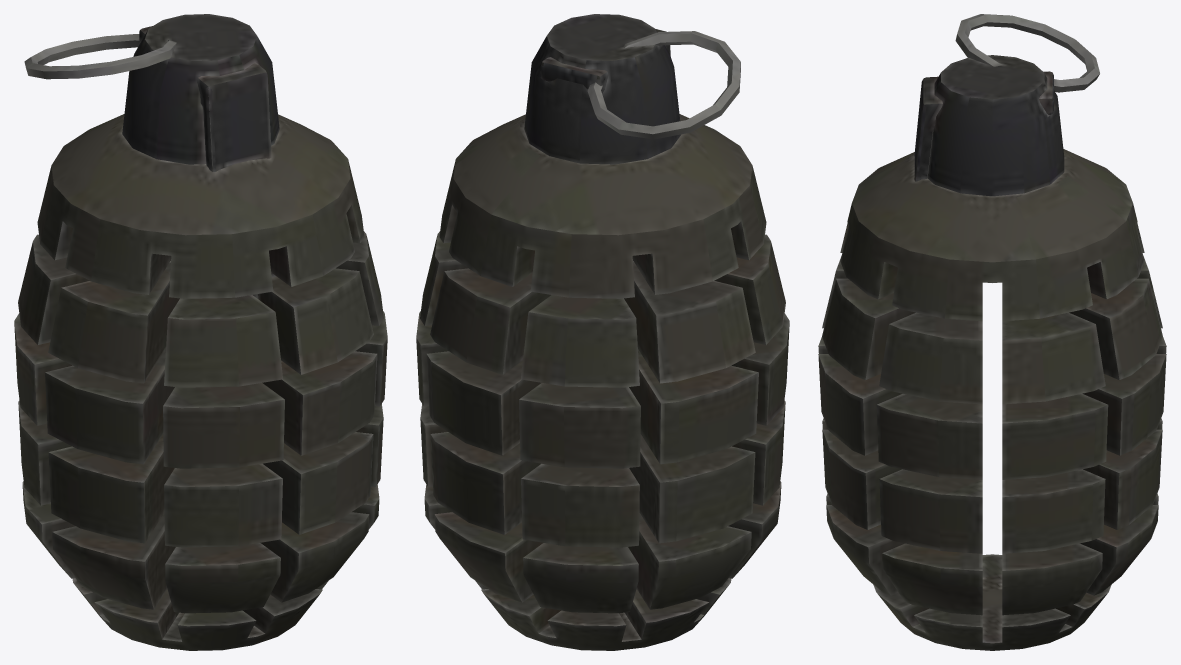
Rendered from recruit_frag.glb.
3 renders of one model, left to right at view 1: azimuth 30°, elevation 25°; view 2: azimuth 150°, elevation 25°; view 3: azimuth 270°, elevation 25°, orthographic. The views are drawn at different scales.
Visible parts, largest first — view 1: recruit_frag; view 2: recruit_frag; view 3: recruit_frag.
Boxes of the visible parts, box(x1,y1,x2,y2) form: recruit_frag: box(14, 14, 387, 650); recruit_frag: box(416, 14, 789, 650); recruit_frag: box(818, 14, 1166, 650).
Bounding box in the file's own units: 0.0628 × 0.1121 × 0.0628.
1 material, 1 textured.
